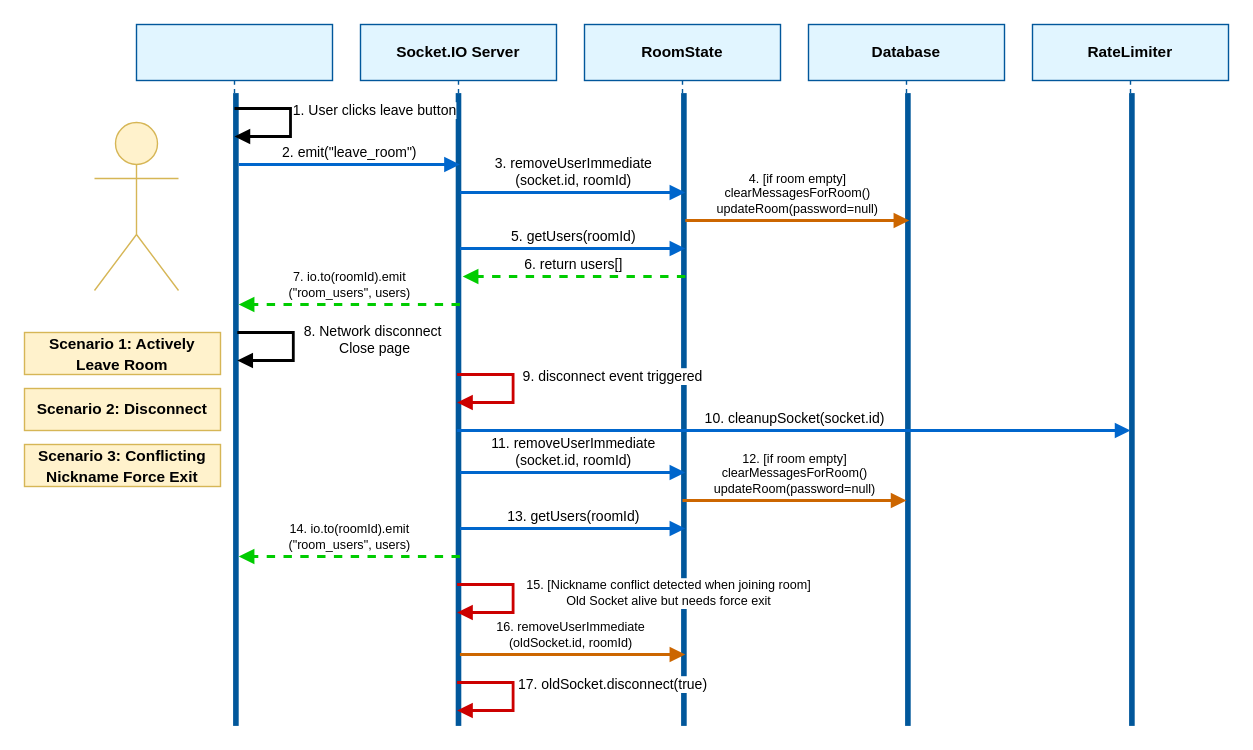
This 1253x750 diagram has some shape labels left out. The shapes that lost their labels are listed below. From the top down, each one's centre as x and y in pixels, then its label:
(233,58): Browser Client
(135,205): User
